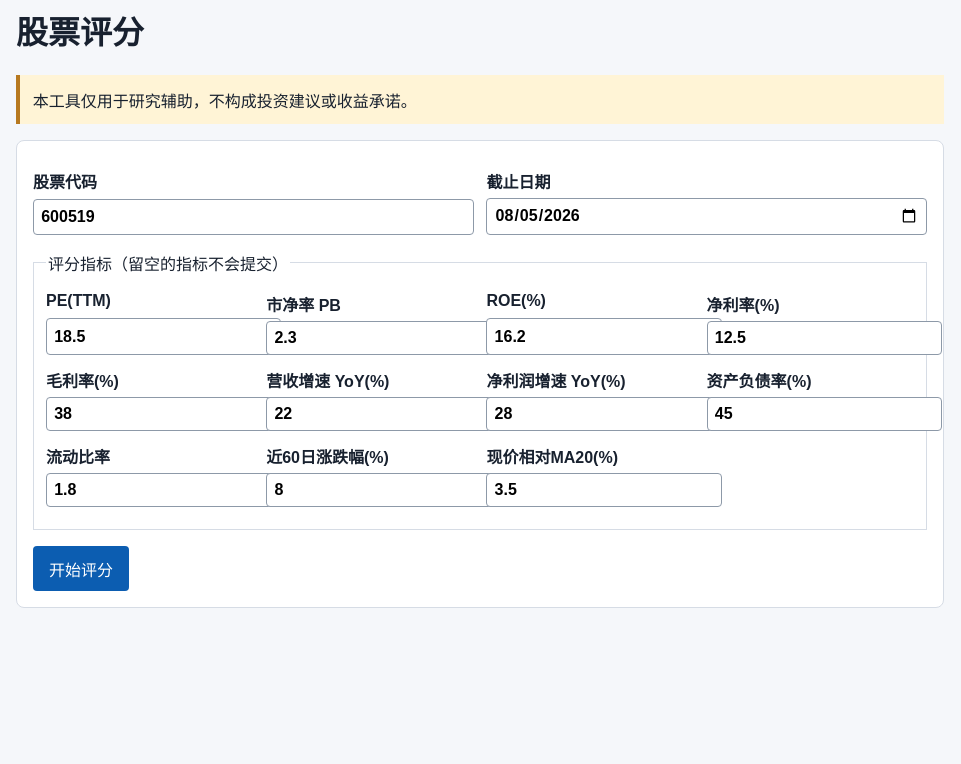
Scenario: scoring page › disables submit while loading and Cancel aborts the in-flight request
Click the button "开始评分" at {"x": 81, "y": 569}, box [33, 546, 129, 591]
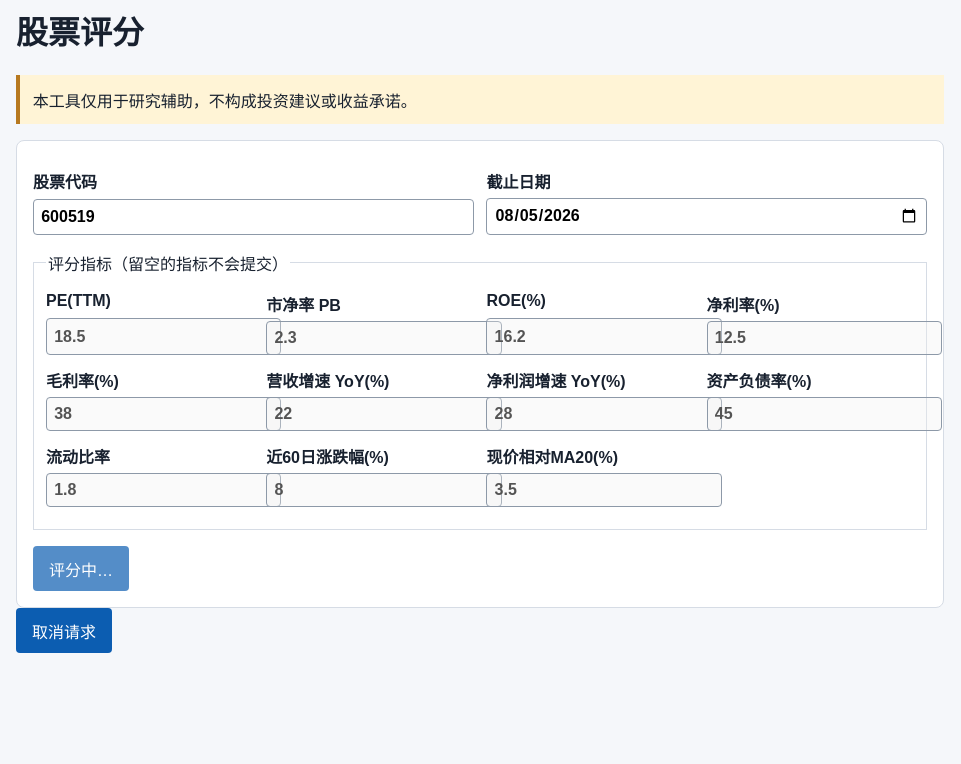
Expected: the button "评分中…" is disabled, [33, 546, 129, 591]
Click the button "取消请求" at {"x": 64, "y": 630}, box [16, 608, 112, 653]
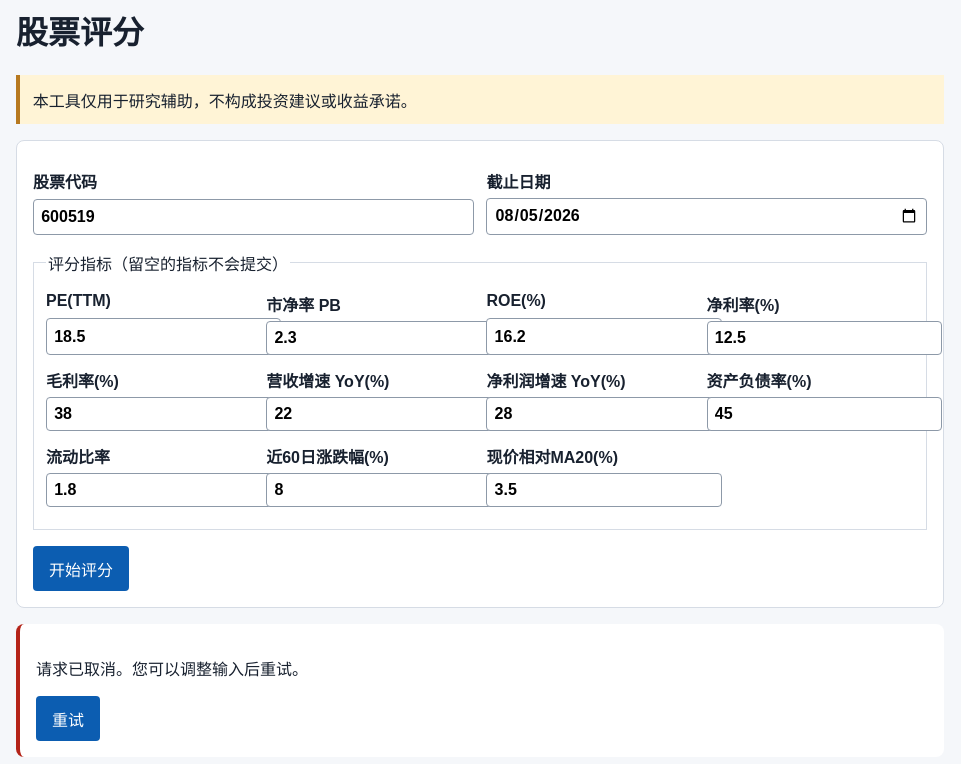
Expected: the message shows "请求已取消", [36, 661, 308, 678]
